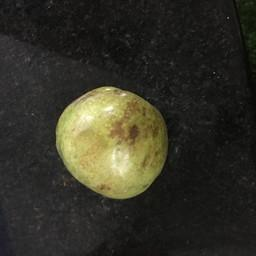Bad_apple: (51, 87, 169, 200)
